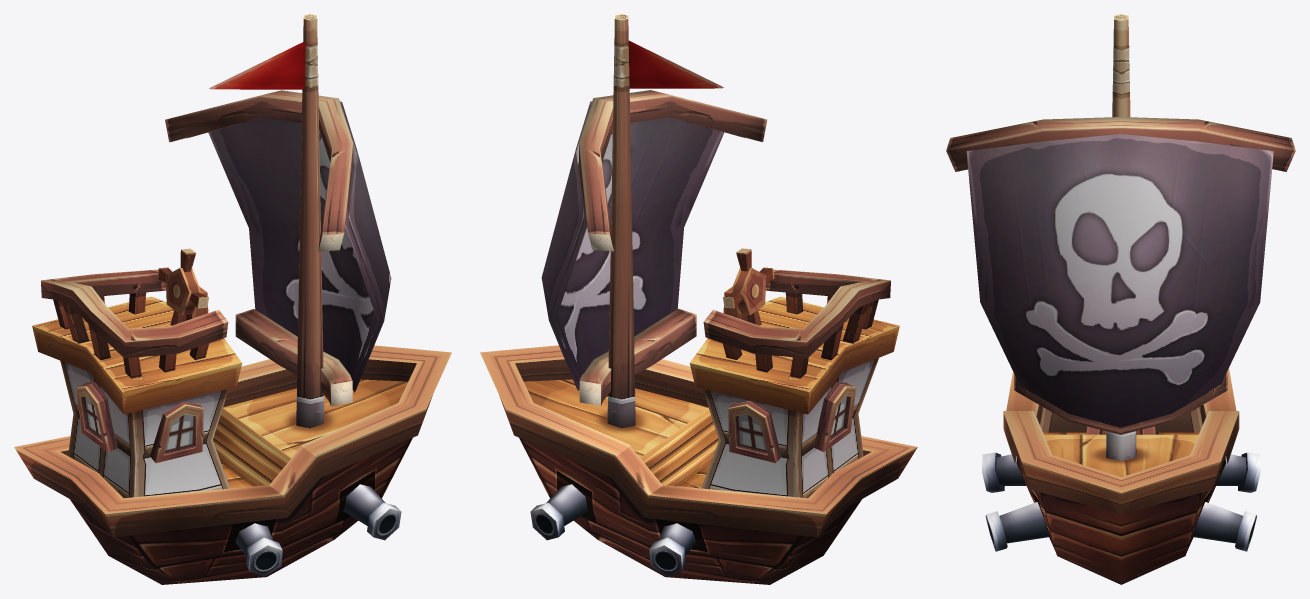
File: boat.glb
The picture shows the model from 3 angles, left to right: view 1: azimuth 30°, elevation 25°; view 2: azimuth 150°, elevation 25°; view 3: azimuth 270°, elevation 25°; orthographic projection. The views are drawn at different scales.
Parts seen in each view (by area): view 1: pirate_boat_04; view 2: pirate_boat_04; view 3: pirate_boat_04.
Part boxes in pixels (x1,y1,x2,y2): pirate_boat_04: [14, 14, 451, 584]; pirate_boat_04: [480, 14, 917, 584]; pirate_boat_04: [946, 14, 1295, 584].
Bounding box in the file's own units: 7.72 × 10.15 × 5.5.
1 material, 1 textured.
